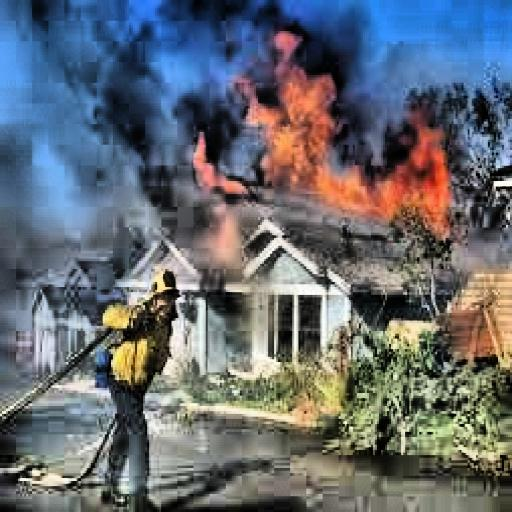fire: (183, 44, 472, 246)
